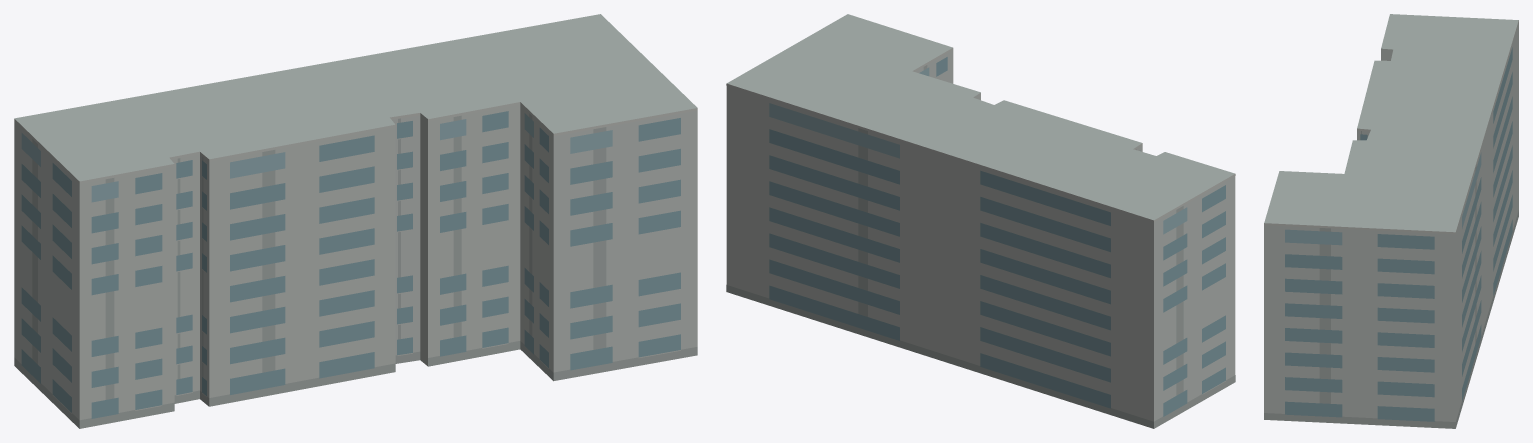
The model's file is survey-upis-32941817.glb.
3 views of the same model, side by side, from view 1: azimuth 30°, elevation 25°; view 2: azimuth 150°, elevation 25°; view 3: azimuth 270°, elevation 25° (orthographic). The views are drawn at different scales.
Visible parts, largest first — view 1: survey-upis-32941817.tmp; view 2: survey-upis-32941817.tmp; view 3: survey-upis-32941817.tmp.
Part boxes in pixels (bbox=[...]): survey-upis-32941817.tmp: bbox=[14, 14, 697, 428]; survey-upis-32941817.tmp: bbox=[726, 14, 1235, 428]; survey-upis-32941817.tmp: bbox=[1264, 14, 1518, 428].
Size of the model in its own units: 54.02 by 22.7 by 26.65.
